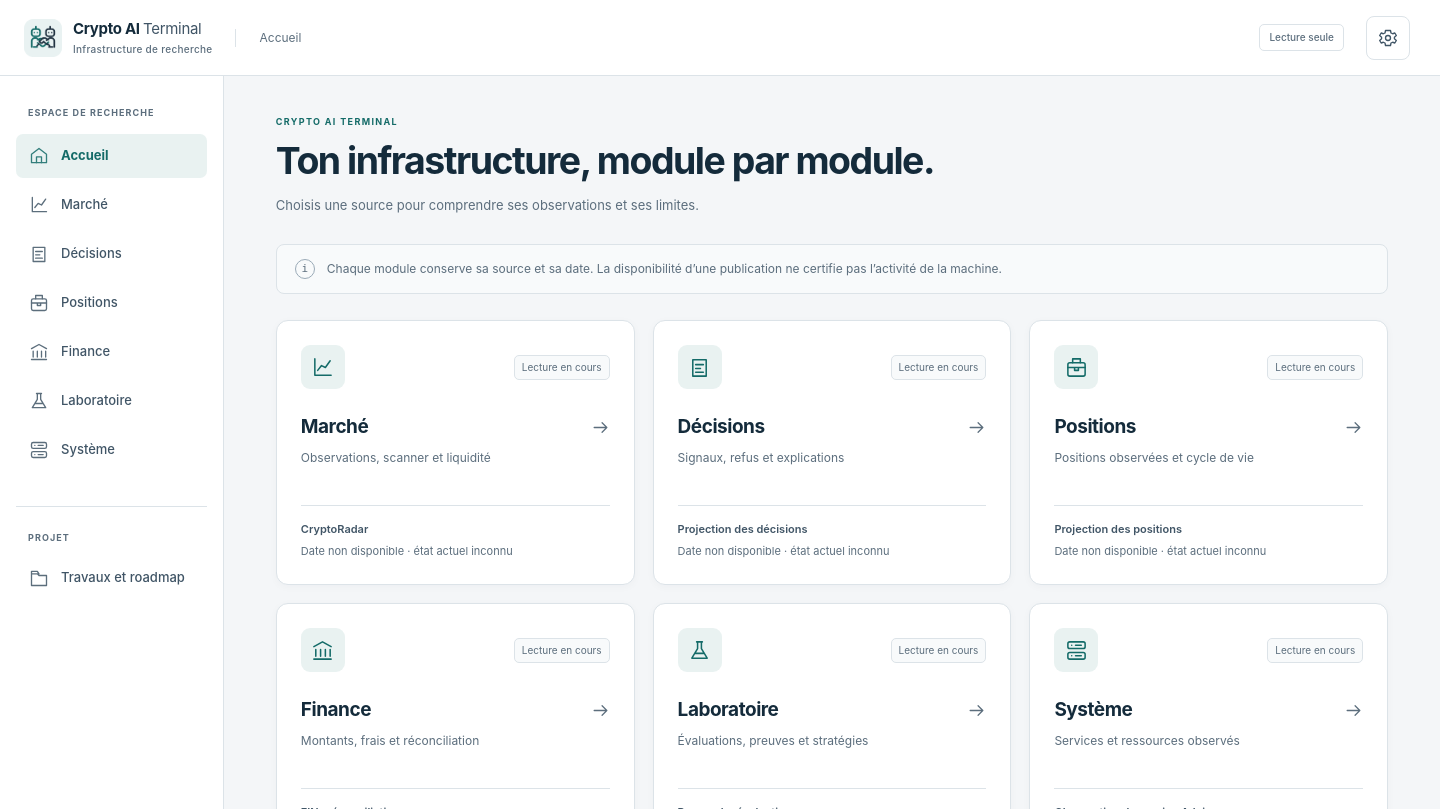
Test: Module workspace routing › opens the owned source from a home card
Click the link "Décisions" below "Ton infrastructure, module par module.": click(721, 427) [678,413,986,442]
(page scrolled)
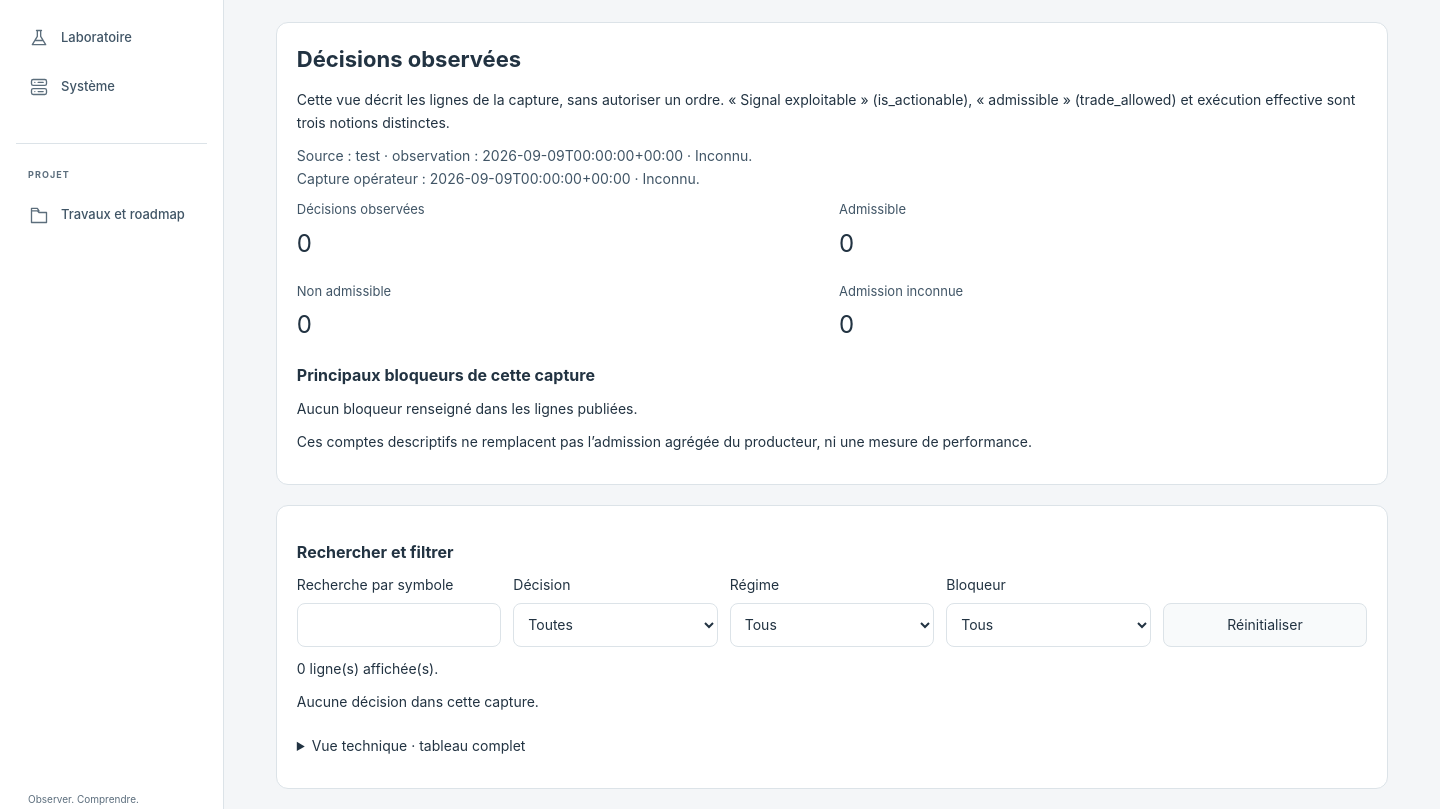
Expected: the element with test id "decisions-view" is shown
